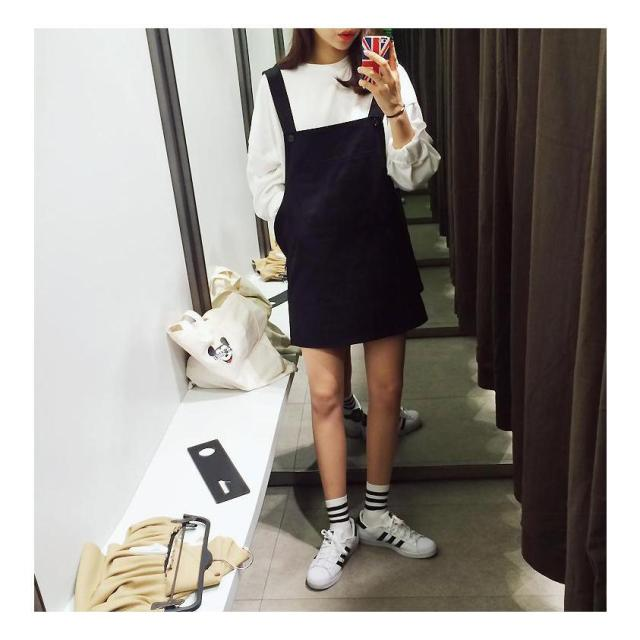long sleeve top: (248, 52, 442, 270)
sling dress: (263, 61, 429, 348)
